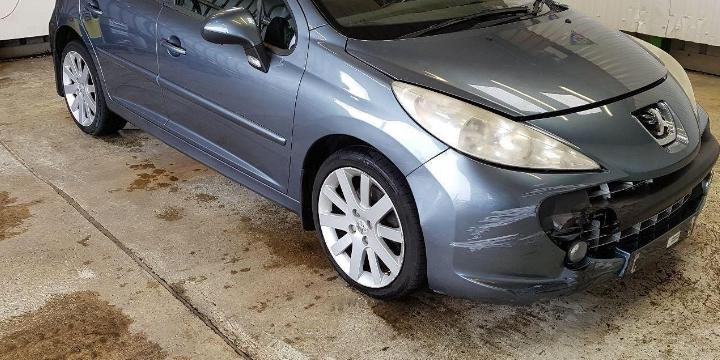Back-door: (79, 0, 169, 129)
Back-wheel: (61, 41, 128, 136)
Fender: (287, 25, 451, 203)
Front-bumper: (405, 72, 719, 307)
Front-door: (157, 0, 310, 195)
Front-wheel: (312, 145, 428, 300)
Front-window: (164, 0, 257, 24), (261, 0, 299, 55)
Grille: (537, 102, 720, 259)
Headlight: (390, 81, 603, 172), (624, 33, 698, 119)
Hood: (346, 6, 669, 117)
License-plate: (623, 212, 698, 275)
Mirror: (200, 7, 271, 74)
Quarter-panel: (49, 0, 111, 100)
Rocker-panel: (105, 99, 301, 216)
Windshield: (312, 0, 568, 41)
